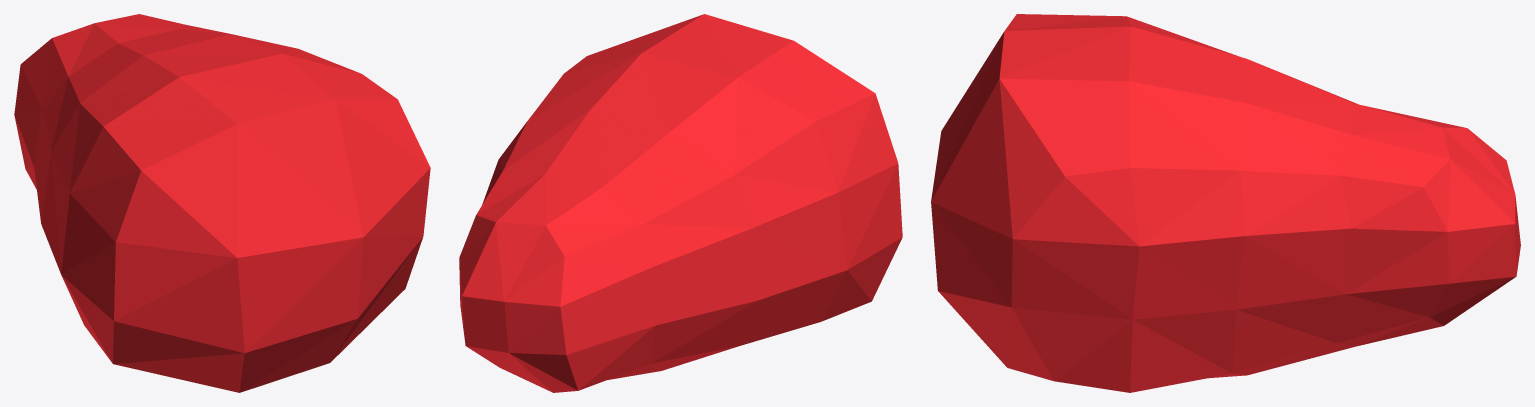
File: Morango.fbx
3 renders of one model, left to right at view 1: azimuth 30°, elevation 25°; view 2: azimuth 150°, elevation 25°; view 3: azimuth 270°, elevation 25°, orthographic. The views are drawn at different scales.
Visible parts, largest first — view 1: Cube_002; view 2: Cube_002; view 3: Cube_002.
Part boxes in pixels (left/top/right/bottom): Cube_002: left=14, top=14, right=430, bottom=392; Cube_002: left=459, top=14, right=902, bottom=392; Cube_002: left=931, top=14, right=1520, bottom=392.
Bounding box in the file's own units: 0.6695 × 0.5402 × 0.9499.
Materials: 1 (1 with a texture image).
